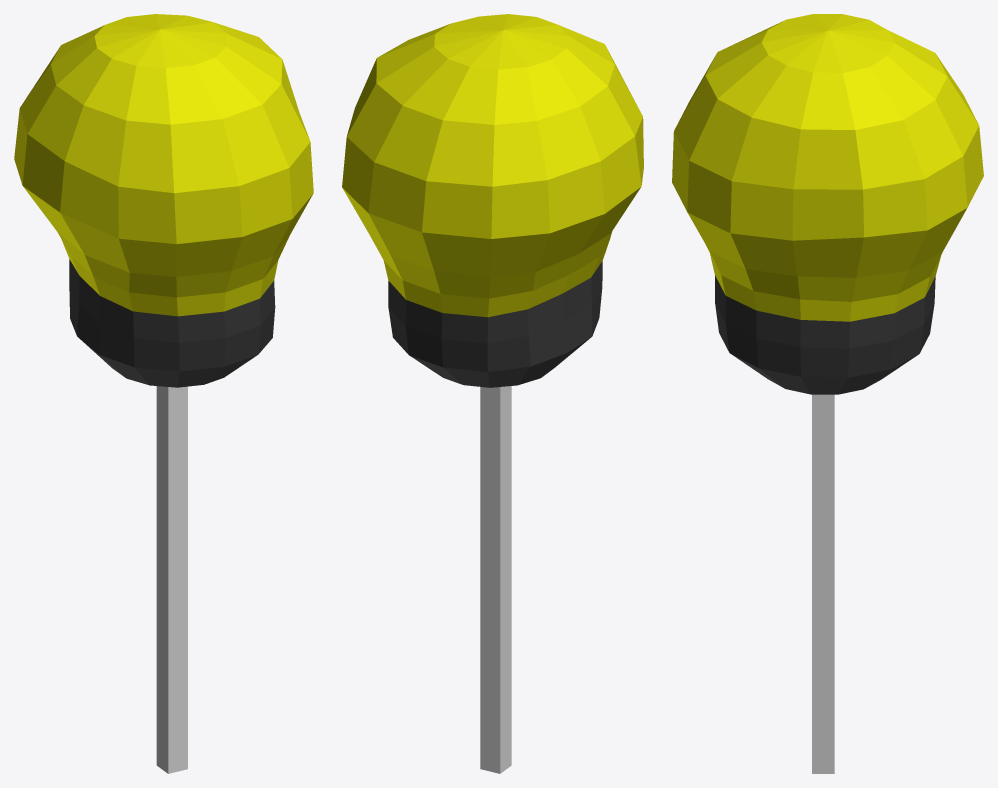
Rendered from lamp.fbx.
3 views of the same model, side by side, from view 1: azimuth 30°, elevation 25°; view 2: azimuth 150°, elevation 25°; view 3: azimuth 270°, elevation 25° (orthographic).
Parts seen in each view (by area): view 1: Lamp, Cube; view 2: Lamp, Cube; view 3: Lamp, Cube.
Boxes of the visible parts, x1,y1,x2,y2 form: Lamp: [14, 14, 313, 387]; Cube: [156, 386, 187, 773]; Lamp: [342, 14, 643, 387]; Cube: [480, 386, 511, 773]; Lamp: [672, 14, 983, 394]; Cube: [812, 394, 834, 773].
Size of the model in its own units: 25.9 by 73.07 by 28.17.
